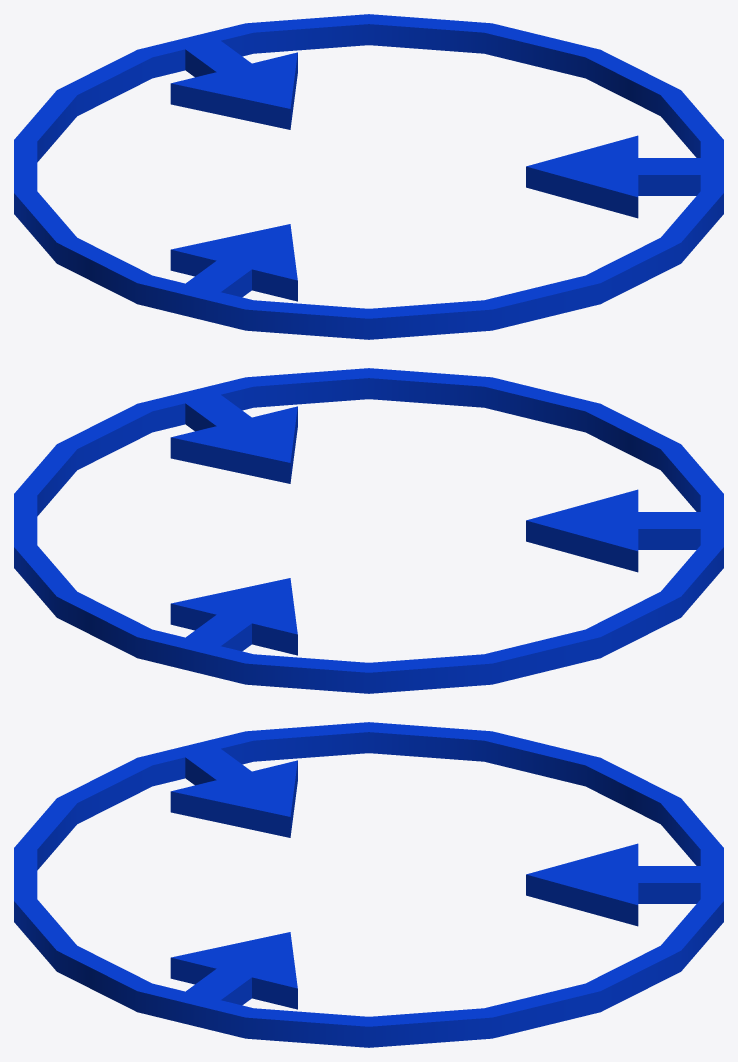
Rendered from yuansu10.2161be0.glb.
3 renders of one model, top to bottom at view 1: azimuth 30°, elevation 25°; view 2: azimuth 150°, elevation 25°; view 3: azimuth 270°, elevation 25°, orthographic.
Parts seen in each view (by area): view 1: yuansu12; view 2: yuansu12; view 3: yuansu12.
Part boxes in pixels (<box>): yuansu12: <box>14,14,723,339</box>; yuansu12: <box>14,368,723,693</box>; yuansu12: <box>14,722,723,1047</box>.
Size of the model in its own units: 1.55 by 0.05 by 1.53.
